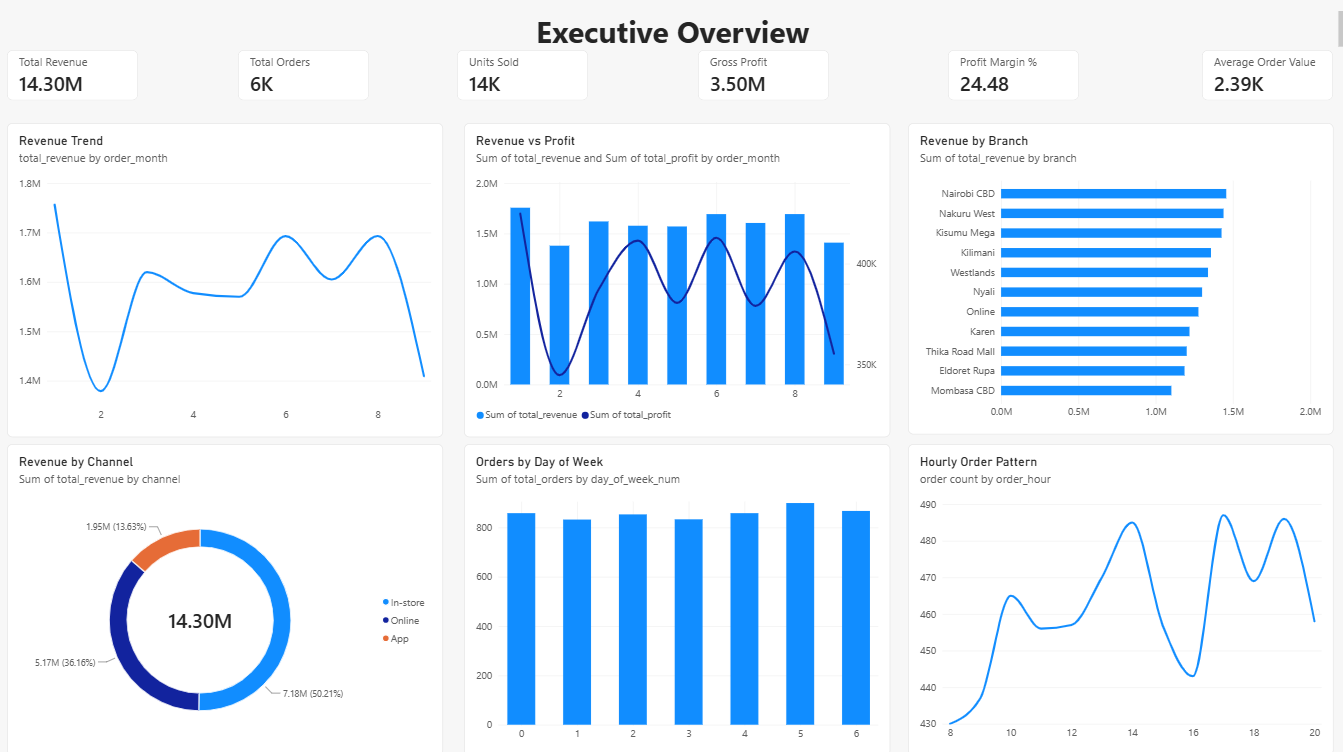

This screenshot's page, from the dashboard's own definition file:
{"tool":"powerbi","page":{"name":"1. Executive_Overview","canvas":[1920,1080],"ordinal":0},"visuals":[{"type":"textbox","box":[10,17.1,1910,54.3],"z":0},{"type":"cardVisual","fields":{"Data":["Sum(clean_pharmacy v_pharmacy_daily_sales.total_revenue)"]},"box":[9.8,72.9,187.8,72.9],"z":1000},{"type":"cardVisual","fields":{"Data":["Sum(clean_pharmacy v_pharmacy_daily_sales.total_orders)"]},"box":[340.6,72.9,187.8,72.9],"z":2000},{"type":"cardVisual","fields":{"Data":["Sum(clean_pharmacy v_pharmacy_daily_sales.units_sold)"]},"box":[653.1,72.9,187.8,72.9],"z":3000},{"type":"cardVisual","fields":{"Data":["Sum(clean_pharmacy v_pharmacy_daily_sales.total_profit)"]},"box":[997.8,72.9,187.8,72.9],"z":4000},{"type":"cardVisual","fields":{"Data":["Avg(clean_pharmacy v_pharmacy_daily_sales.profit_margin_pct)"]},"box":[1353.8,72.9,187.8,72.9],"z":5000},{"type":"cardVisual","fields":{"Data":["Avg(clean_pharmacy v_pharmacy_daily_sales.average_order_value)"]},"box":[1716.5,72.7,187.8,72.9],"z":6000},{"type":"lineChart","title":"Revenue Trend","fields":{"Y":["Sum(clean_pharmacy v_pharmacy_daily_sales.total_revenue)"],"Category":["clean_pharmacy v_pharmacy_daily_sales.order_month"]},"box":[10,176.7,622.7,448.5],"z":7000},{"type":"lineClusteredColumnComboChart","title":"Revenue vs Profit","fields":{"Y":["Sum(clean_pharmacy v_pharmacy_daily_sales.total_revenue)"],"Y2":["Sum(clean_pharmacy v_pharmacy_daily_sales.total_profit)"],"Category":["clean_pharmacy v_pharmacy_daily_sales.order_month"]},"box":[662.8,176.7,608.9,448.5],"z":8000},{"type":"clusteredBarChart","title":"Revenue by Branch","fields":{"Category":["clean_pharmacy v_product_branch_performance.branch"],"Y":["Sum(clean_pharmacy v_product_branch_performance.total_revenue)"]},"box":[1296.8,176.7,607.7,444.8],"z":9000},{"type":"donutChart","title":"Revenue by Channel","fields":{"Category":["clean_pharmacy v_channel_performance.channel"],"Y":["Sum(clean_pharmacy v_channel_performance.total_revenue)"]},"box":[10,635.2,622.7,444.8],"z":10000},{"type":"clusteredColumnChart","title":"Orders by Day of Week","fields":{"Y":["Sum(clean_pharmacy v_pharmacy_daily_sales.total_orders)"],"Category":["clean_pharmacy v_pharmacy_daily_sales.day_of_week_num"]},"box":[662.8,635.2,608.9,446],"z":11000},{"type":"lineChart","title":"Hourly Order Pattern","fields":{"Category":["clean_pharmacy clean_pharmacy.order_hour"],"Y":["clean_pharmacy clean_pharmacy.order count"]},"box":[1296.8,635.2,607.7,444.8],"z":12000}]}

Visuals, with their boxes in screenshot pixels (x1, y1, x2, y2), scaled from the page's 1920x1080 canvas onto the 1343x752 screenshot:
textbox: rect(7, 12, 1342, 50)
cardVisual - Sum(clean_pharmacy v_pharmacy_daily_sales.total_revenue): rect(7, 51, 138, 102)
cardVisual - Sum(clean_pharmacy v_pharmacy_daily_sales.total_orders): rect(238, 51, 370, 102)
cardVisual - Sum(clean_pharmacy v_pharmacy_daily_sales.units_sold): rect(457, 51, 588, 102)
cardVisual - Sum(clean_pharmacy v_pharmacy_daily_sales.total_profit): rect(698, 51, 829, 102)
cardVisual - Avg(clean_pharmacy v_pharmacy_daily_sales.profit_margin_pct): rect(947, 51, 1078, 102)
cardVisual - Avg(clean_pharmacy v_pharmacy_daily_sales.average_order_value): rect(1201, 51, 1332, 101)
"Revenue Trend" lineChart: rect(7, 123, 443, 435)
"Revenue vs Profit" lineClusteredColumnComboChart: rect(464, 123, 890, 435)
"Revenue by Branch" clusteredBarChart: rect(907, 123, 1332, 433)
"Revenue by Channel" donutChart: rect(7, 442, 443, 751)
"Orders by Day of Week" clusteredColumnChart: rect(464, 442, 890, 751)
"Hourly Order Pattern" lineChart: rect(907, 442, 1332, 751)
